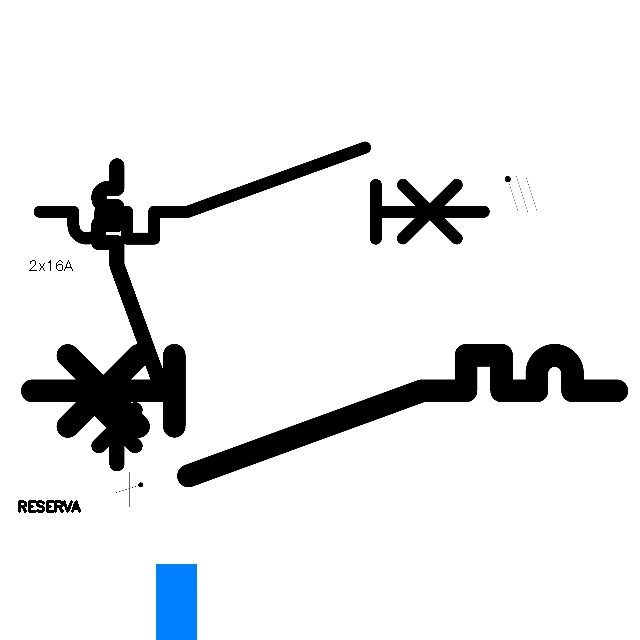interruptor_termomagnetico: (17, 340, 632, 490), (28, 136, 495, 250), (91, 158, 167, 471)
